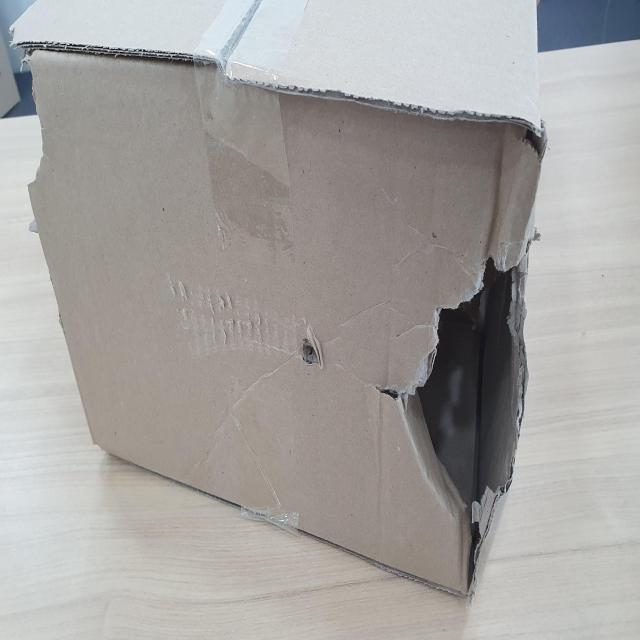damaged: (369, 203, 542, 602)
